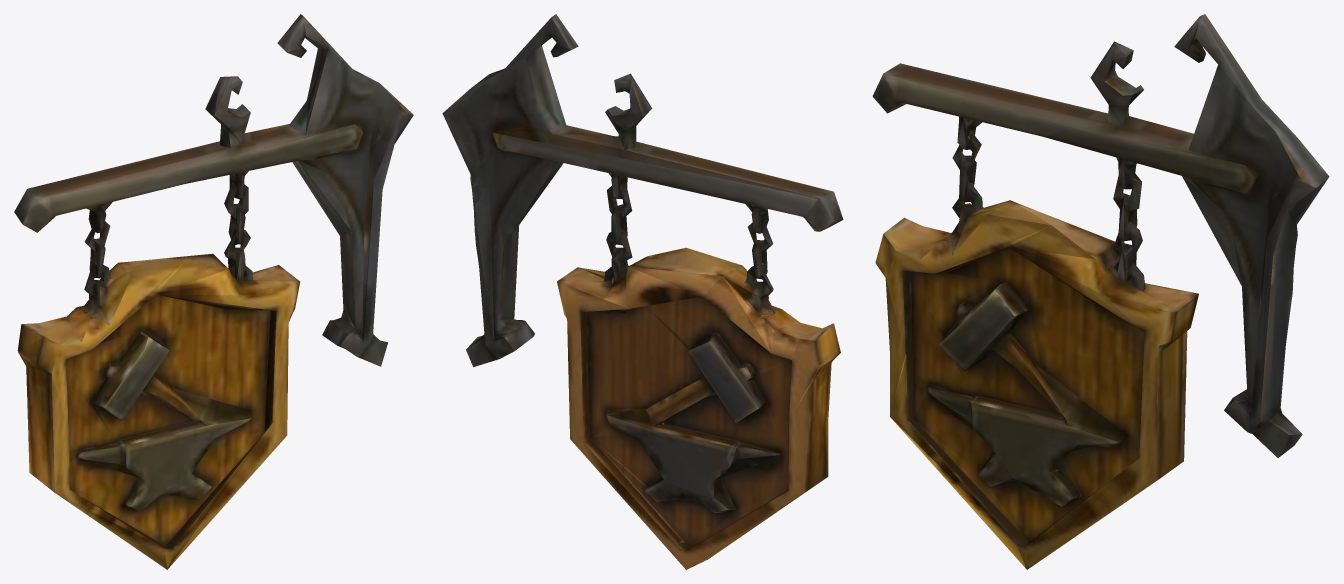
Rendered from obj_sign_smith.glb.
The picture shows the model from 3 angles, left to right: view 1: azimuth 30°, elevation 25°; view 2: azimuth 150°, elevation 25°; view 3: azimuth 330°, elevation 25°; orthographic projection. The views are drawn at different scales.
Visible parts, largest first — view 1: Mesh_0.010; view 2: Mesh_0.010; view 3: Mesh_0.010.
Boxes of the visible parts, x1,y1,x2,y2 form: Mesh_0.010: [14, 14, 413, 569]; Mesh_0.010: [442, 14, 843, 569]; Mesh_0.010: [872, 14, 1329, 569].
Size of the model in its own units: 1.59 by 2 by 0.2158.
1 material, 1 textured.
